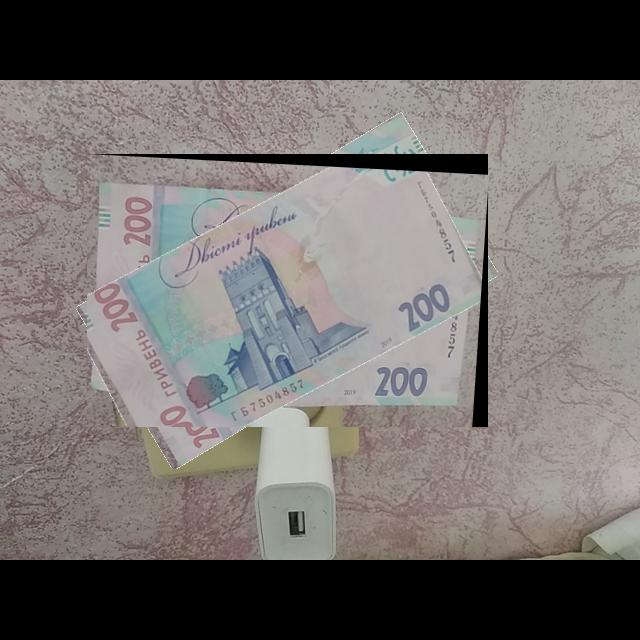200uah: (87, 154, 489, 428)
